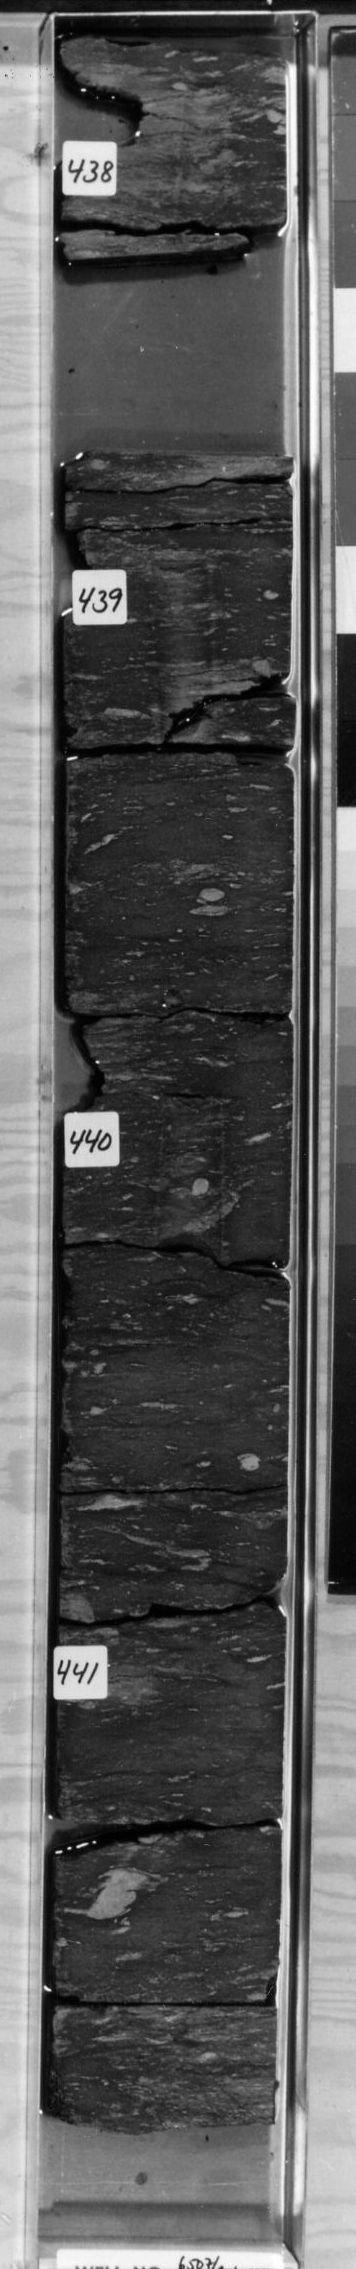hplug: (77, 82, 161, 152), (64, 1025, 113, 1114), (59, 518, 93, 621)
scal: (56, 237, 284, 472)
vplug: (148, 1087, 229, 1260), (145, 551, 217, 735)
